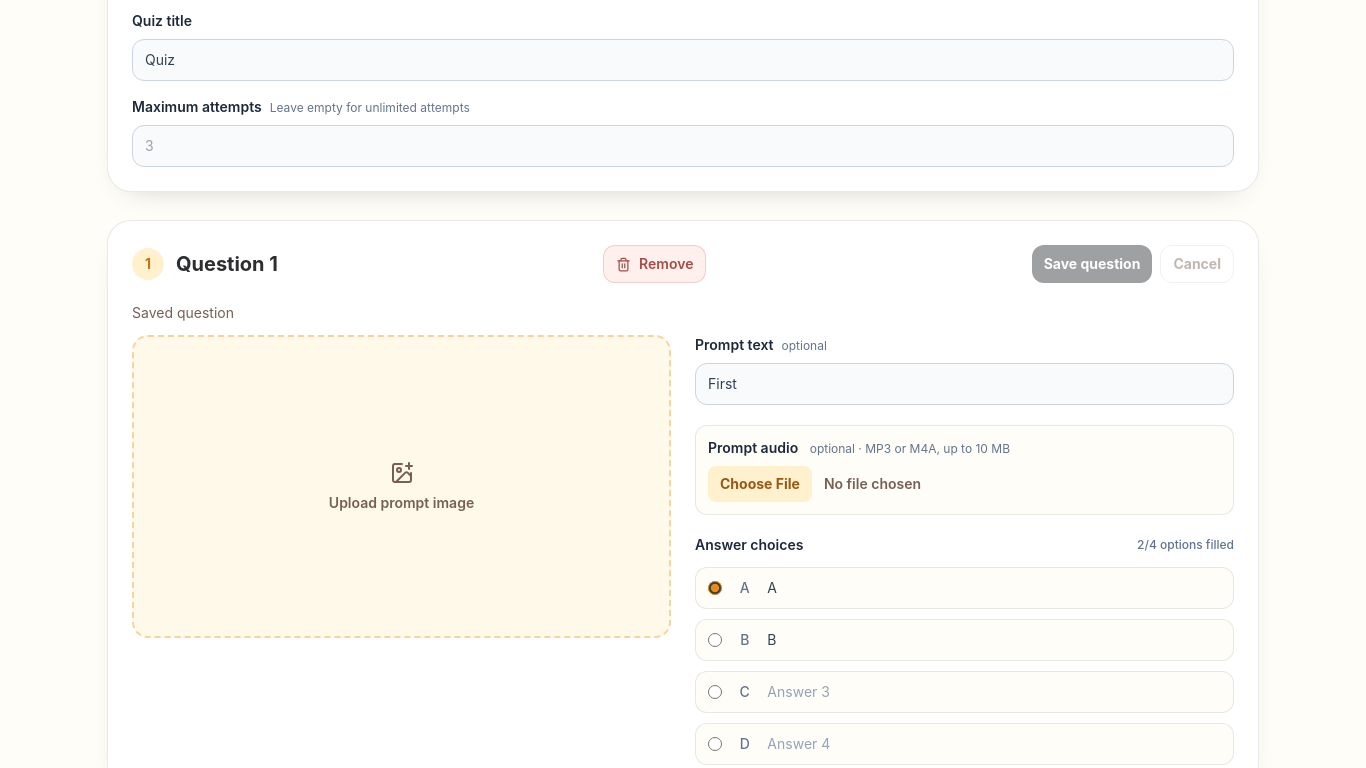
it: QuizEditor question save state › retains a failed question draft for Retry and Cancel restores the persisted value
This screenshot has width=1366, height=768.
(page scrolled)
Clear the field with placeholder "What is this?" at (964, 384), box [695,363,1234,405]
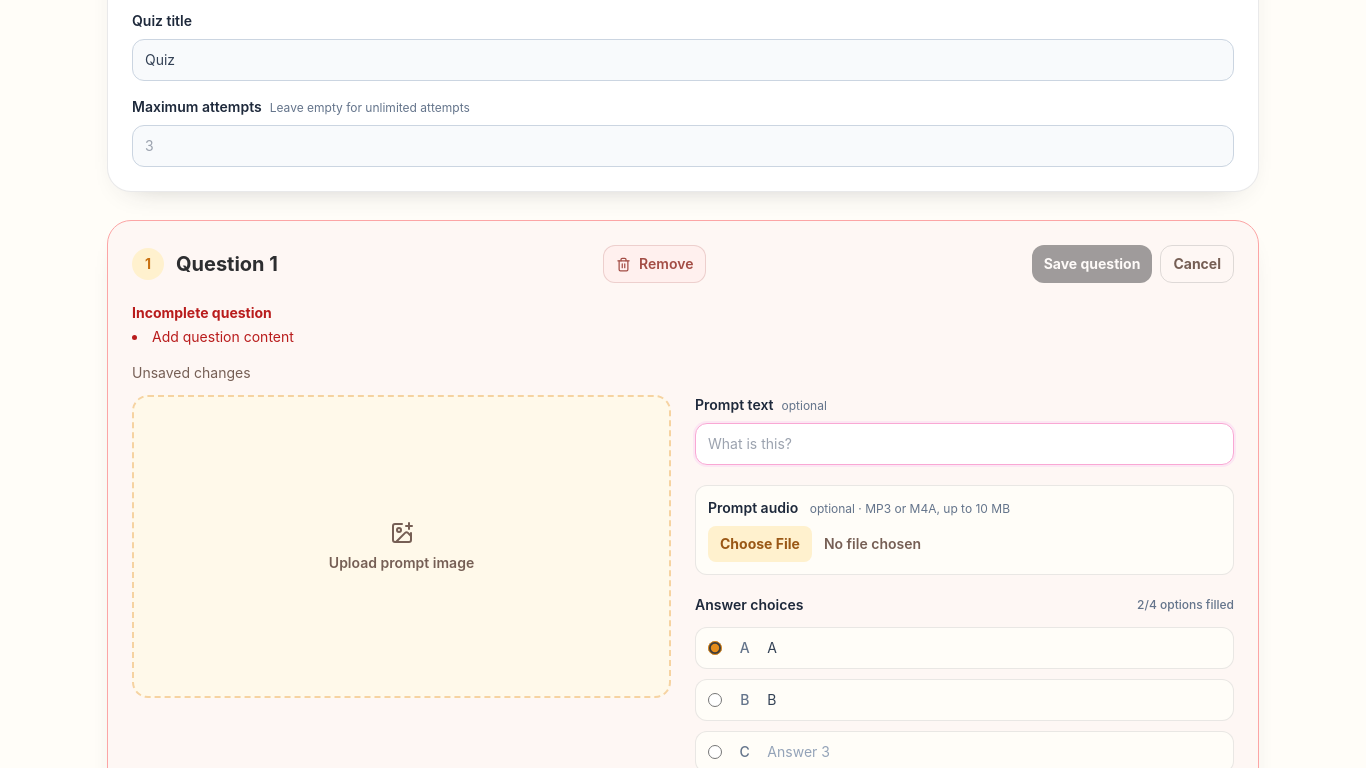
Type "Unsaved" into the field with placeholder "What is this?" at (964, 444), box [695,423,1234,465]
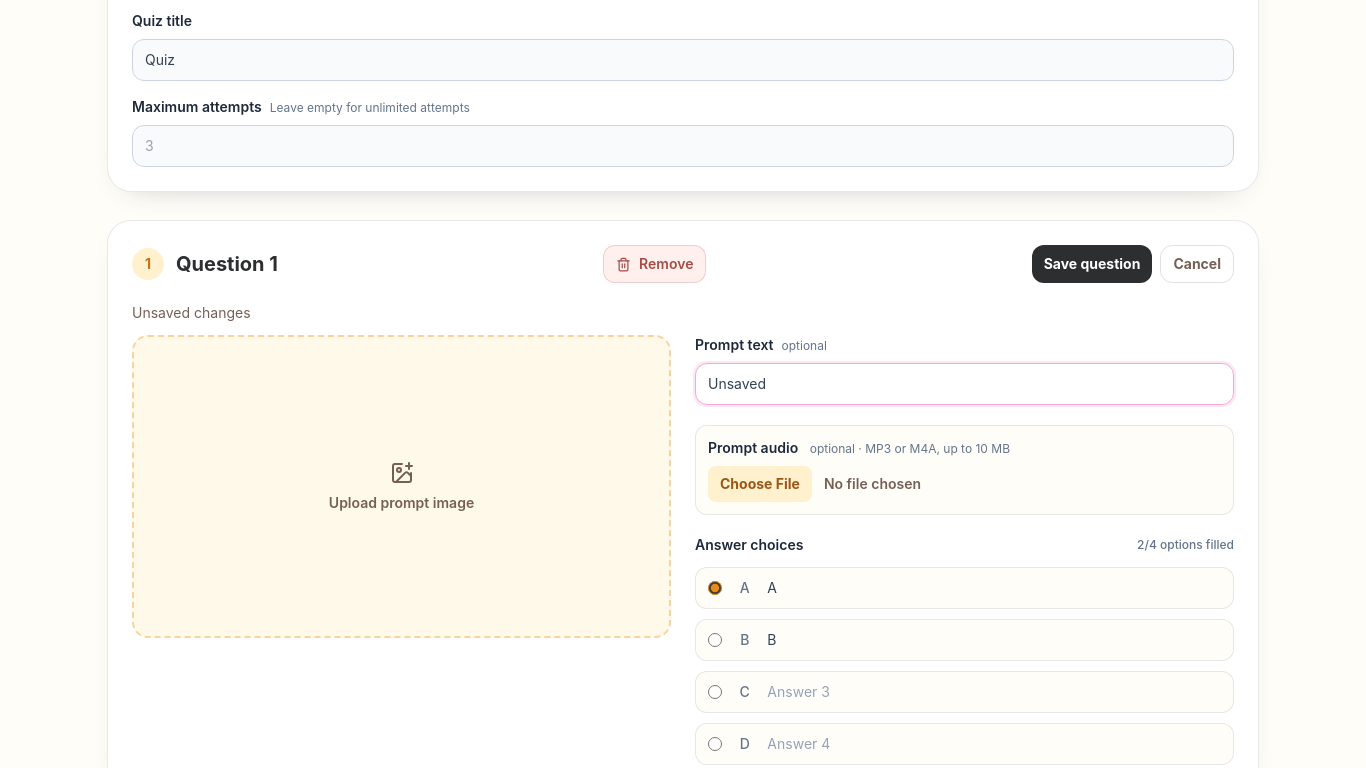
Click the button "Save question" at (1092, 264), box [1032,245,1152,283]
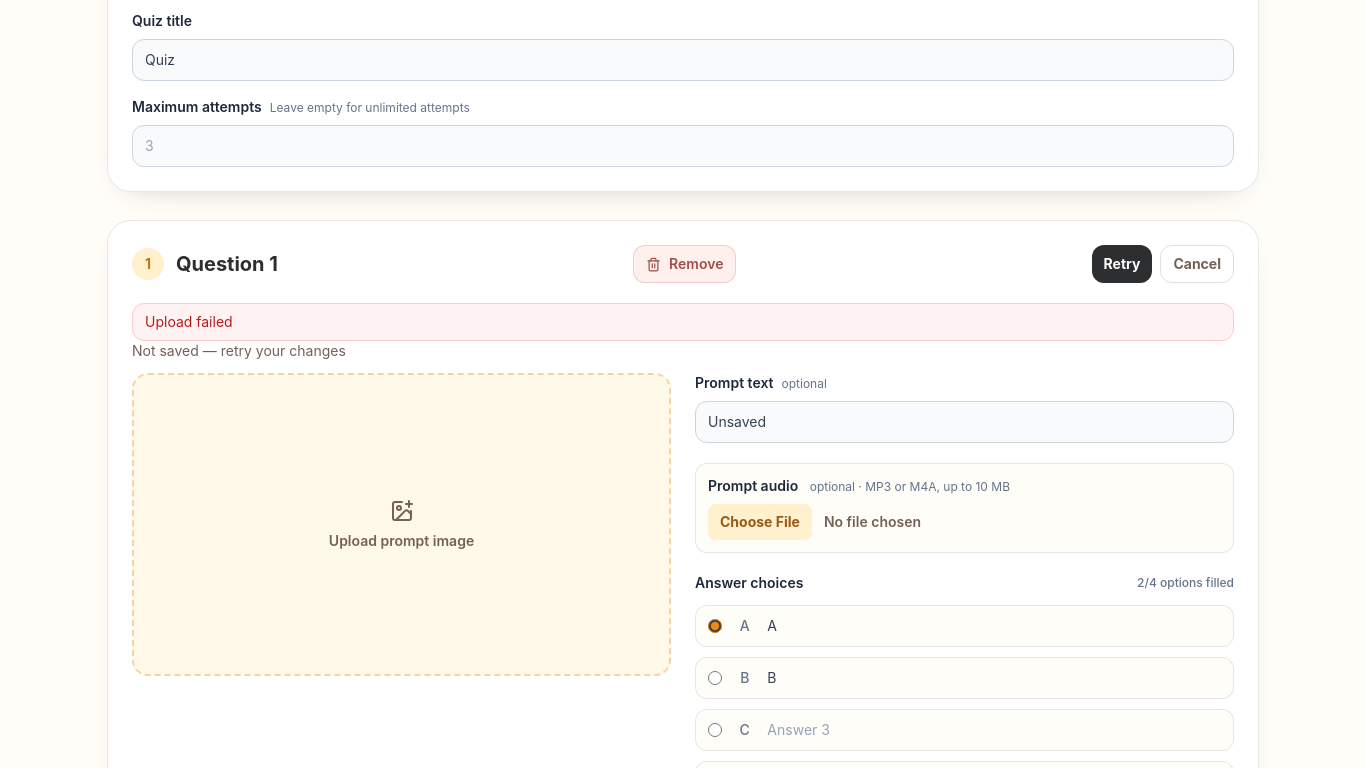
Check: the text "Upload failed" is shown, box [132,303,1234,341]
Click the button "Cancel" at (1197, 264), box [1160,245,1234,283]
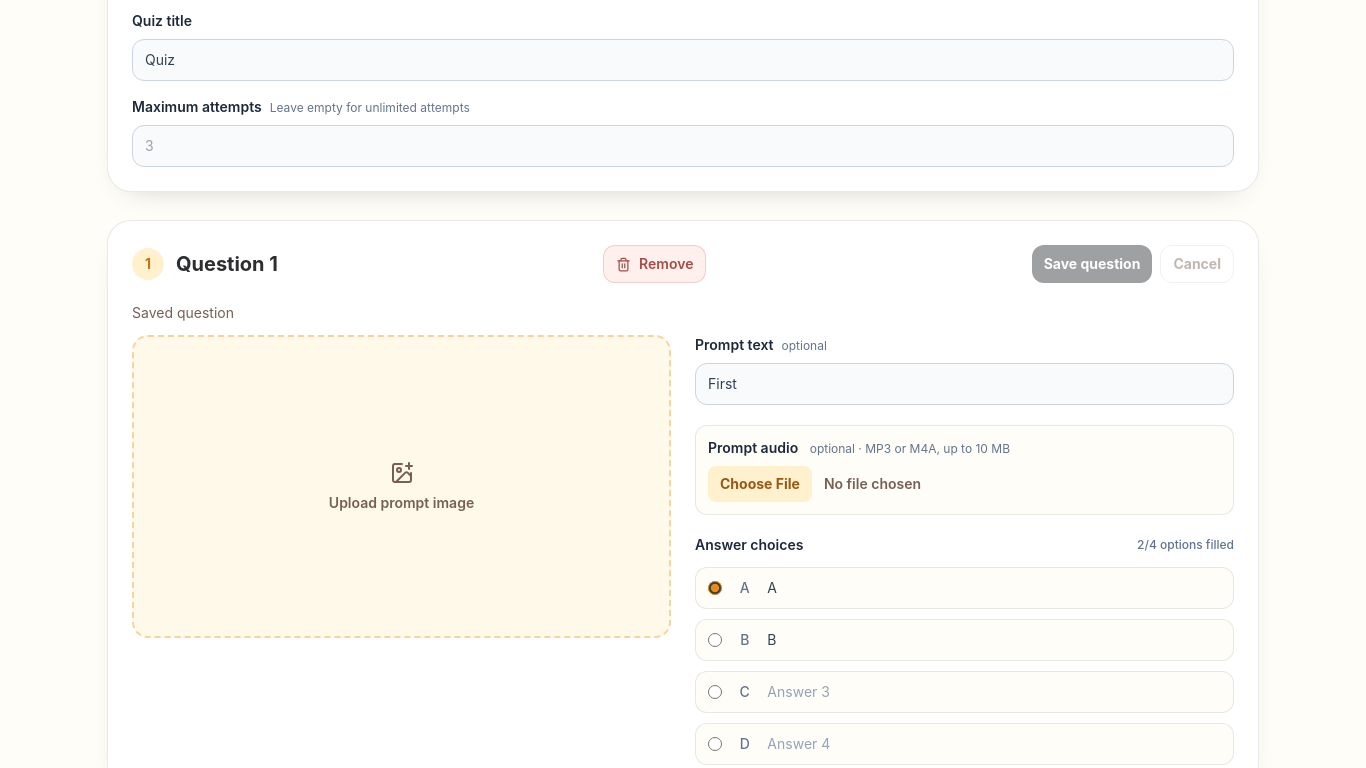
Check: the field with placeholder "What is this?" holds "First", box [695,363,1234,405]
